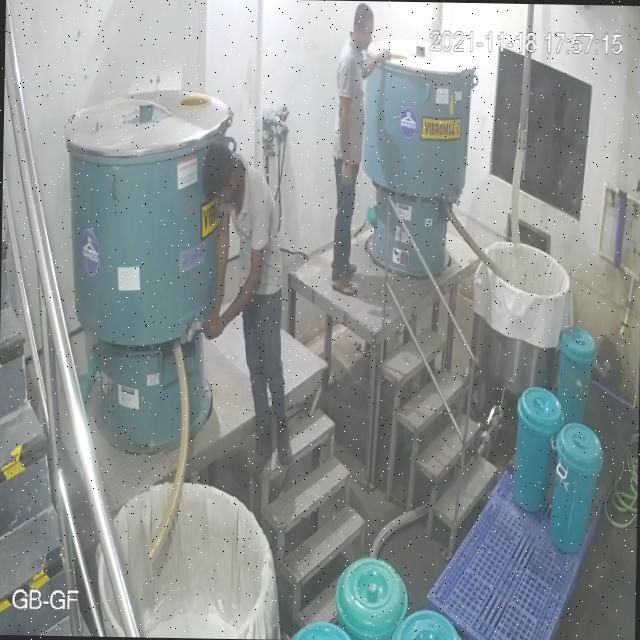boots: (273, 420, 295, 471)
no-boots: (331, 274, 356, 296)
